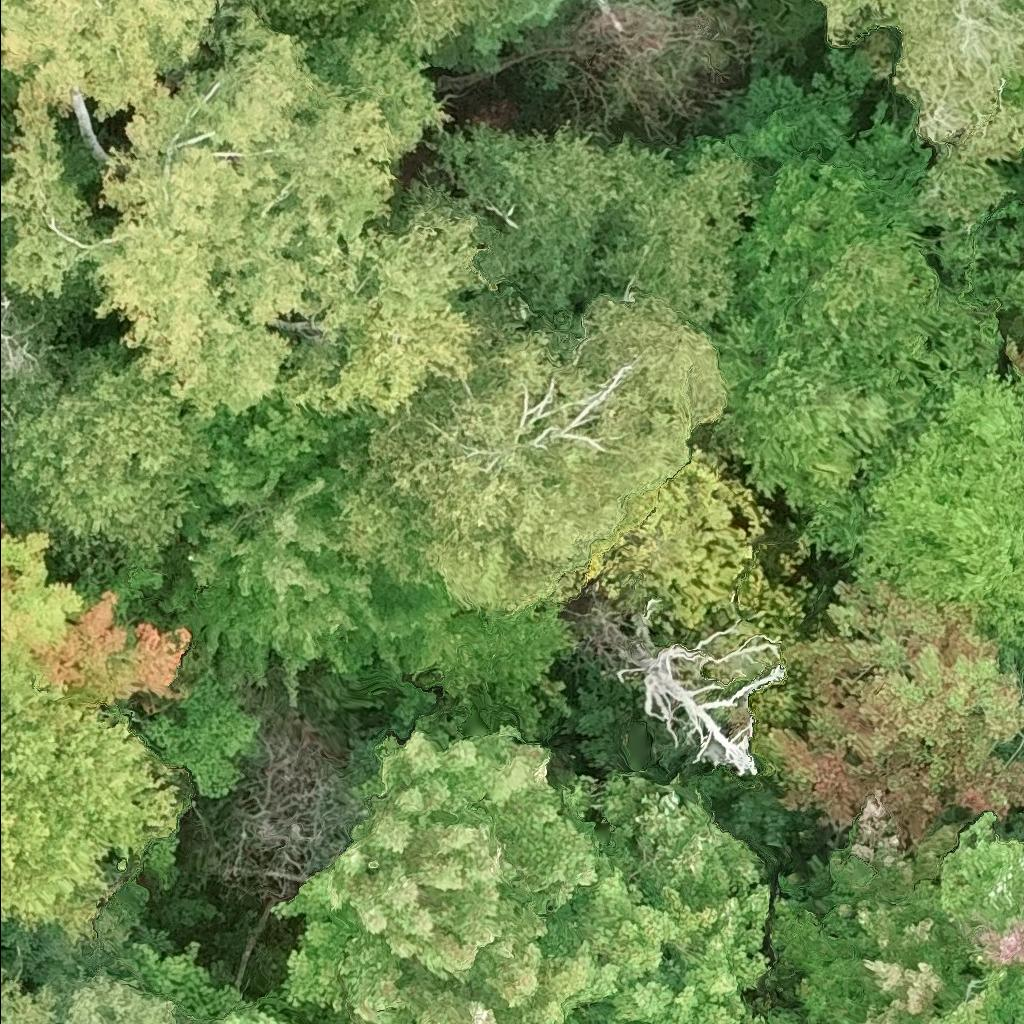crown: (0, 0, 506, 431), (267, 722, 778, 1023), (337, 294, 749, 615), (712, 102, 1000, 516), (753, 573, 1023, 851), (809, 364, 1023, 677), (157, 461, 409, 710), (0, 677, 189, 946), (770, 790, 988, 1023), (0, 333, 212, 568), (565, 593, 788, 777), (599, 447, 817, 635), (431, 122, 630, 322), (0, 512, 190, 708), (590, 130, 769, 331), (370, 571, 583, 739), (817, 0, 1023, 167), (0, 0, 238, 122), (182, 398, 355, 550), (910, 810, 1023, 982), (242, 0, 490, 57), (126, 944, 295, 1023), (55, 968, 180, 1023), (972, 223, 1023, 336), (925, 969, 1023, 1023), (0, 952, 60, 1023), (0, 296, 49, 372), (998, 806, 1023, 836), (746, 1011, 799, 1023), (1009, 140, 1023, 169), (1003, 79, 1023, 97), (1015, 754, 1023, 763)
